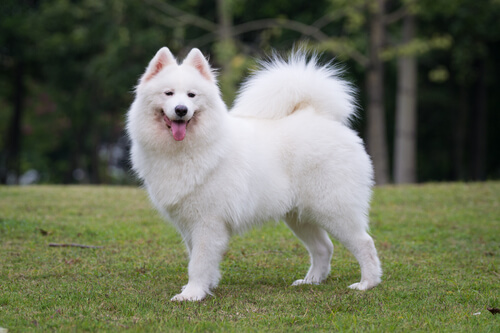dog: (122, 35, 394, 299)
